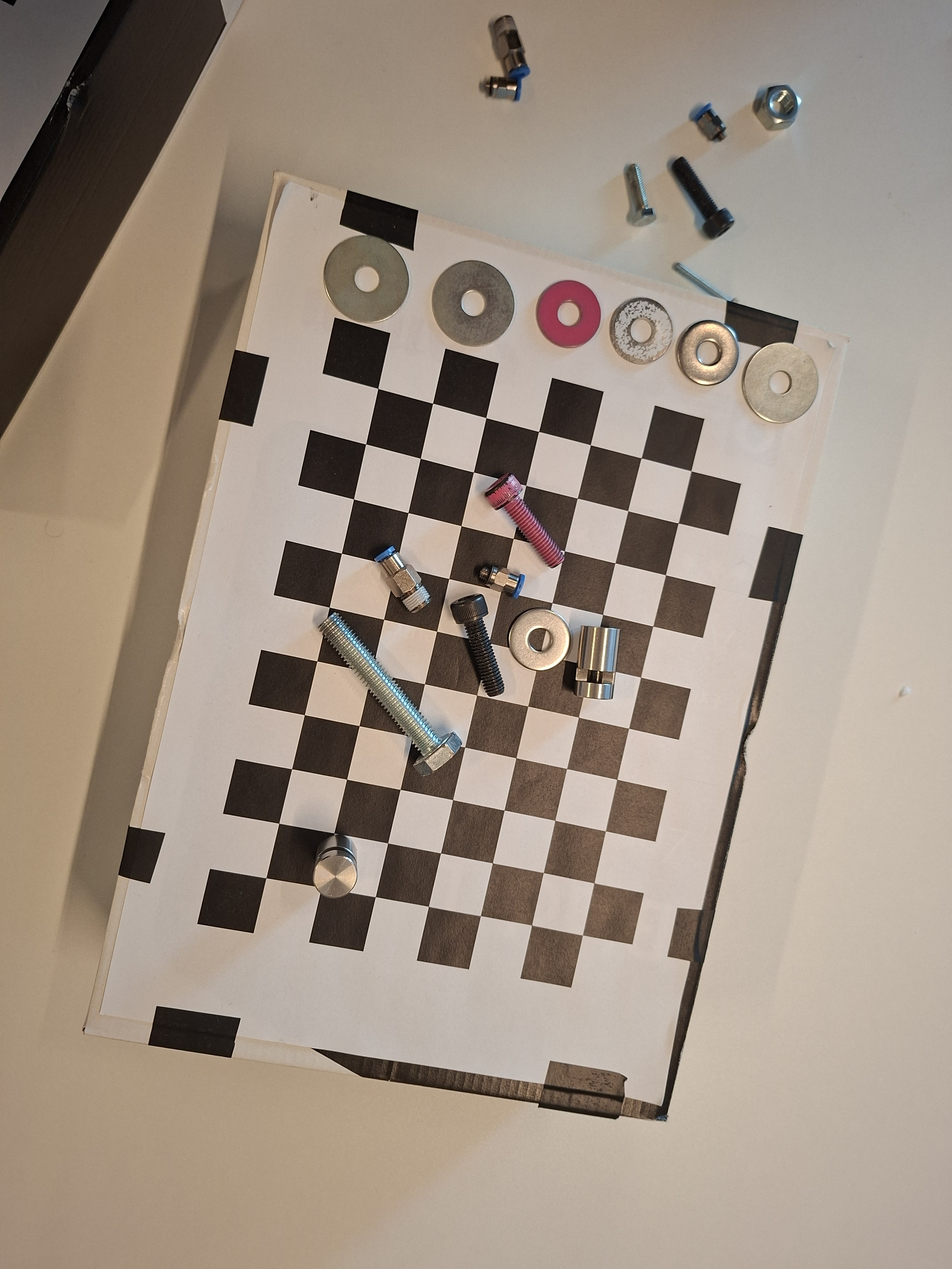allen_screw: (478, 466, 575, 578), (444, 589, 517, 704)
barrel_nut: (568, 619, 625, 706), (301, 828, 364, 902)
hex_bolt: (300, 593, 471, 785)
pneumatic_fitting: (364, 536, 438, 620), (471, 556, 531, 603)
washer: (306, 221, 424, 340), (726, 325, 836, 437), (660, 307, 754, 403), (430, 258, 516, 351), (599, 285, 685, 374), (526, 276, 605, 352), (502, 603, 575, 679)
